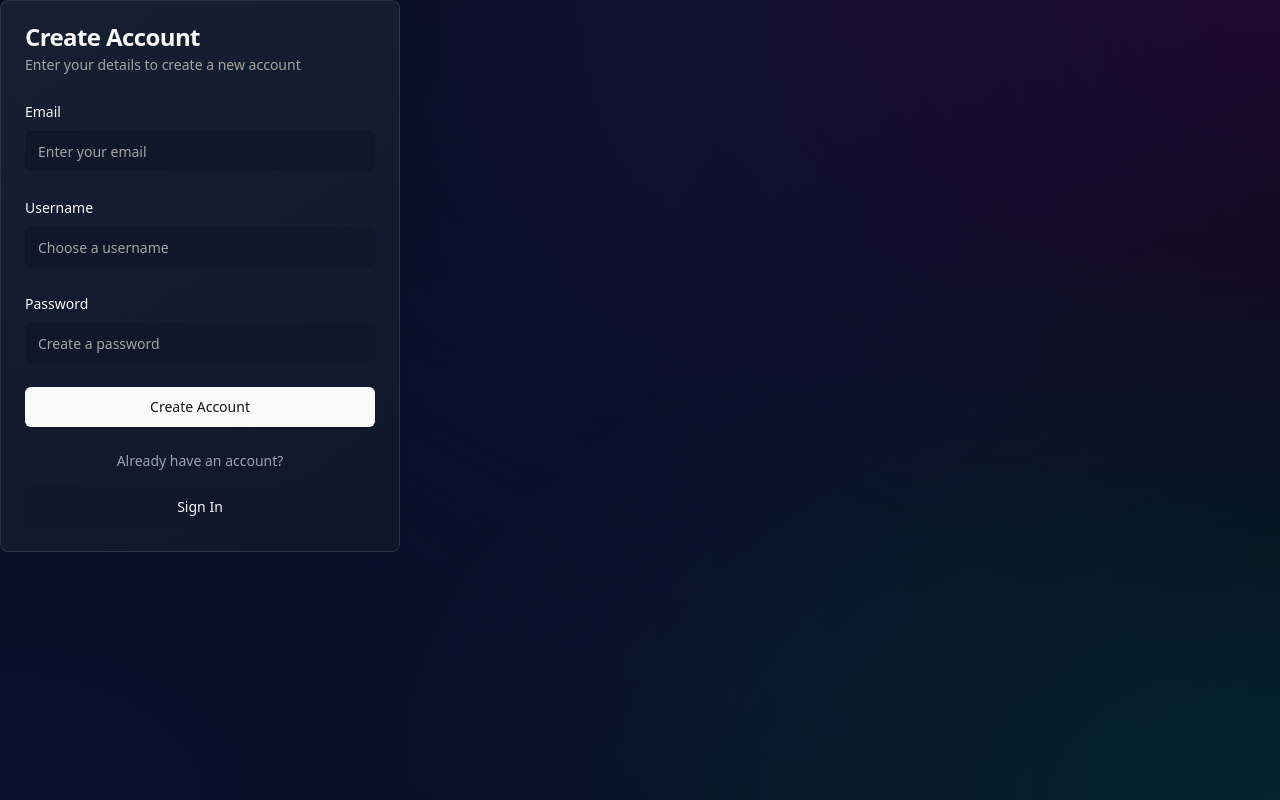
Test: SignUpForm › shows validation errors for empty fields
The image size is (1280, 800).
Click the button "Create Account" at (200, 407), box [25,387,375,427]
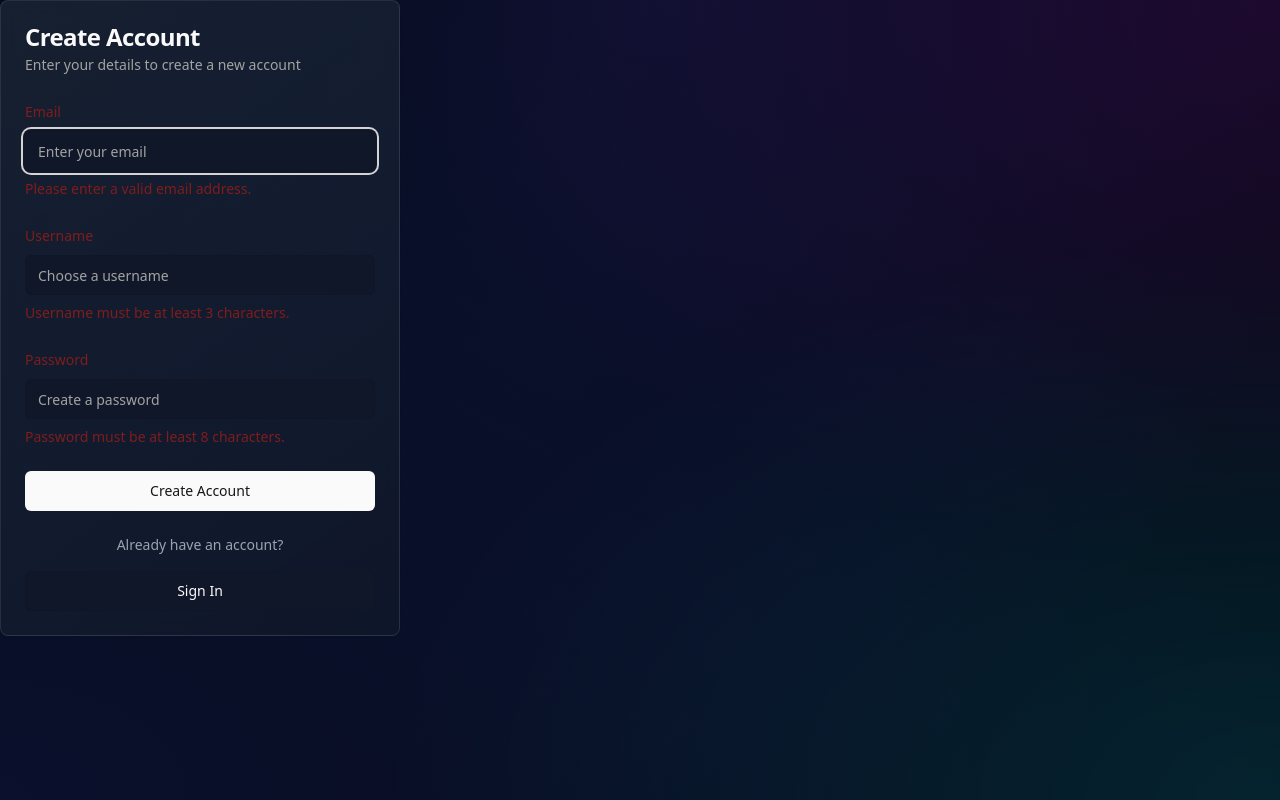
Expected: the text "Please enter a valid email address." is shown, [25,179,251,198]
Expected: the text "Username must be at least 3 characters." is shown, [25,303,290,322]
Expected: the text "Password must be at least 8 characters." is shown, [25,427,285,446]
